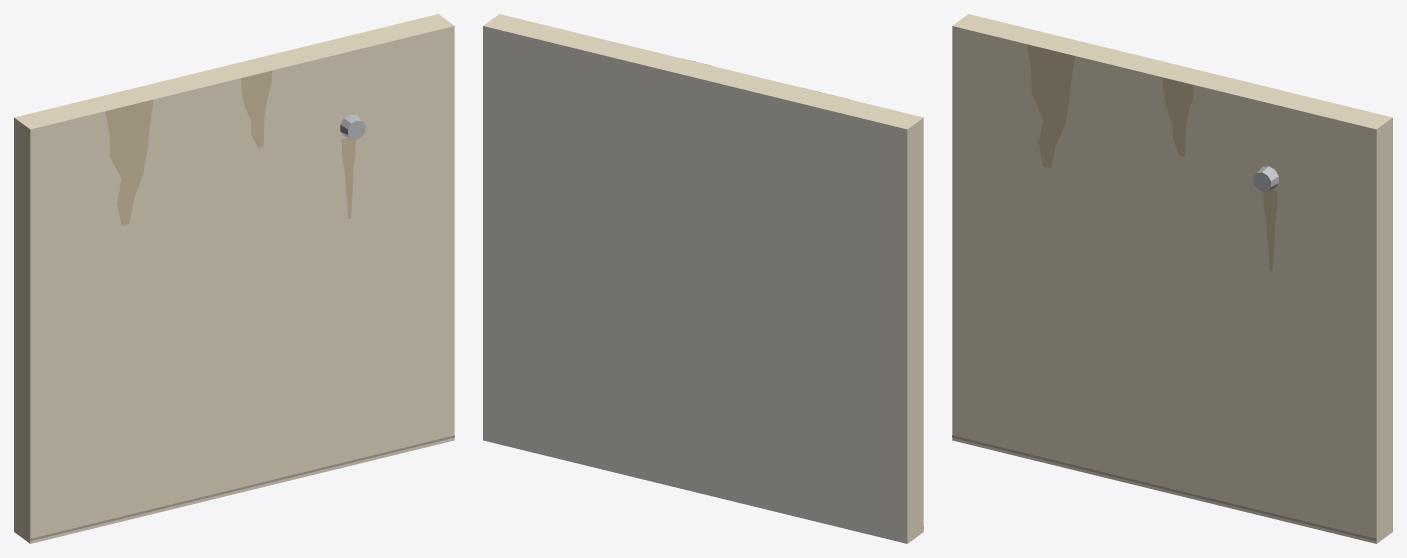
The model's file is SC_Bld_Villa_Wall_Render_3m.gltf.
The picture shows the model from 3 angles, left to right: view 1: azimuth 30°, elevation 25°; view 2: azimuth 150°, elevation 25°; view 3: azimuth 330°, elevation 25°; orthographic projection.
Parts seen in each view (by area): view 1: SC_Bld_Villa_Wall_Render_3m; view 2: SC_Bld_Villa_Wall_Render_3m; view 3: SC_Bld_Villa_Wall_Render_3m.
Part boxes in pixels (x1,y1,x2,y2): SC_Bld_Villa_Wall_Render_3m: [14, 14, 454, 543]; SC_Bld_Villa_Wall_Render_3m: [483, 14, 923, 543]; SC_Bld_Villa_Wall_Render_3m: [952, 14, 1392, 543].
Bounding box in the file's own units: 3 × 2.8 × 0.3.
1 material, 1 textured.
